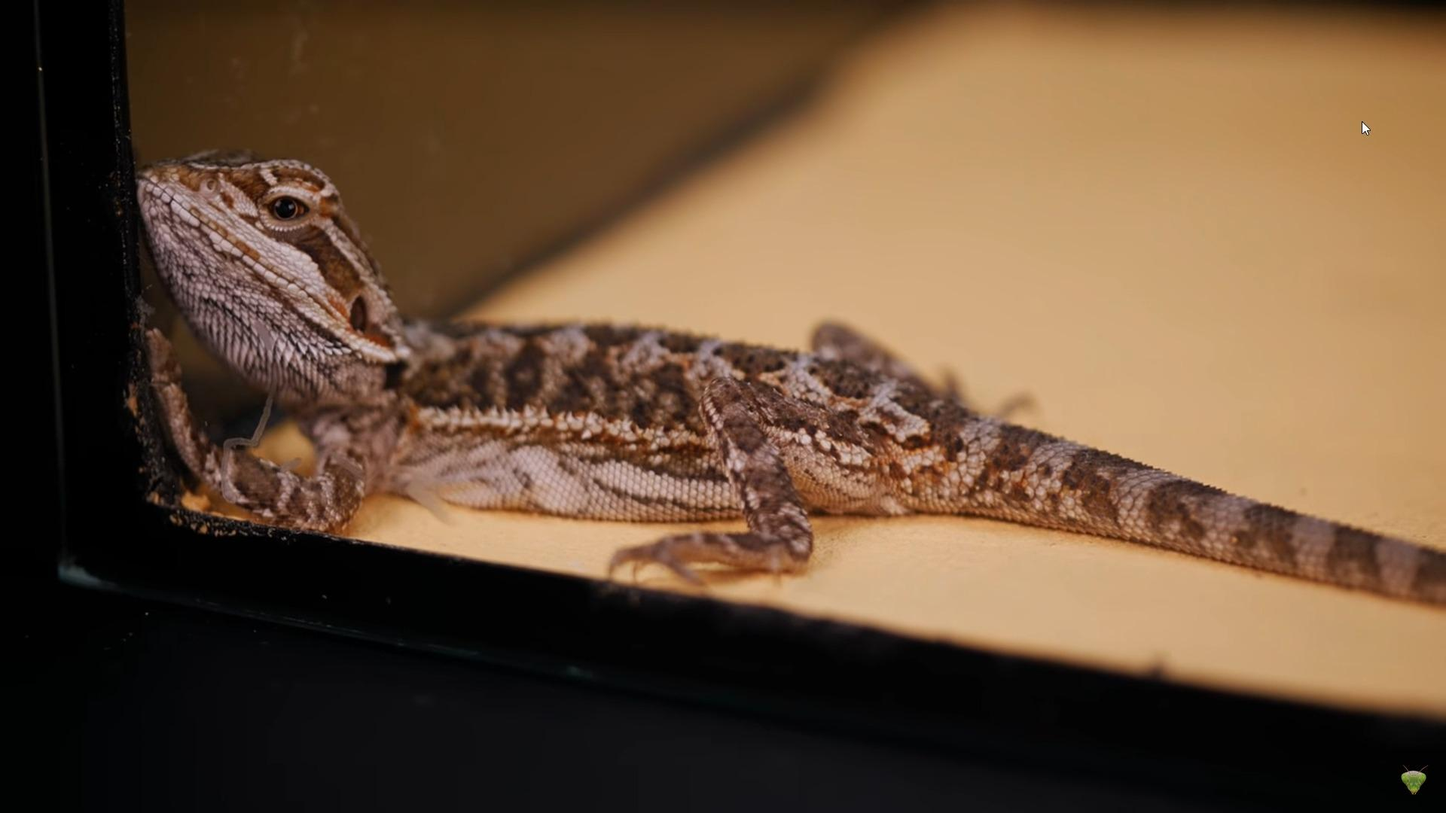lizard: (128, 117, 1263, 585)
